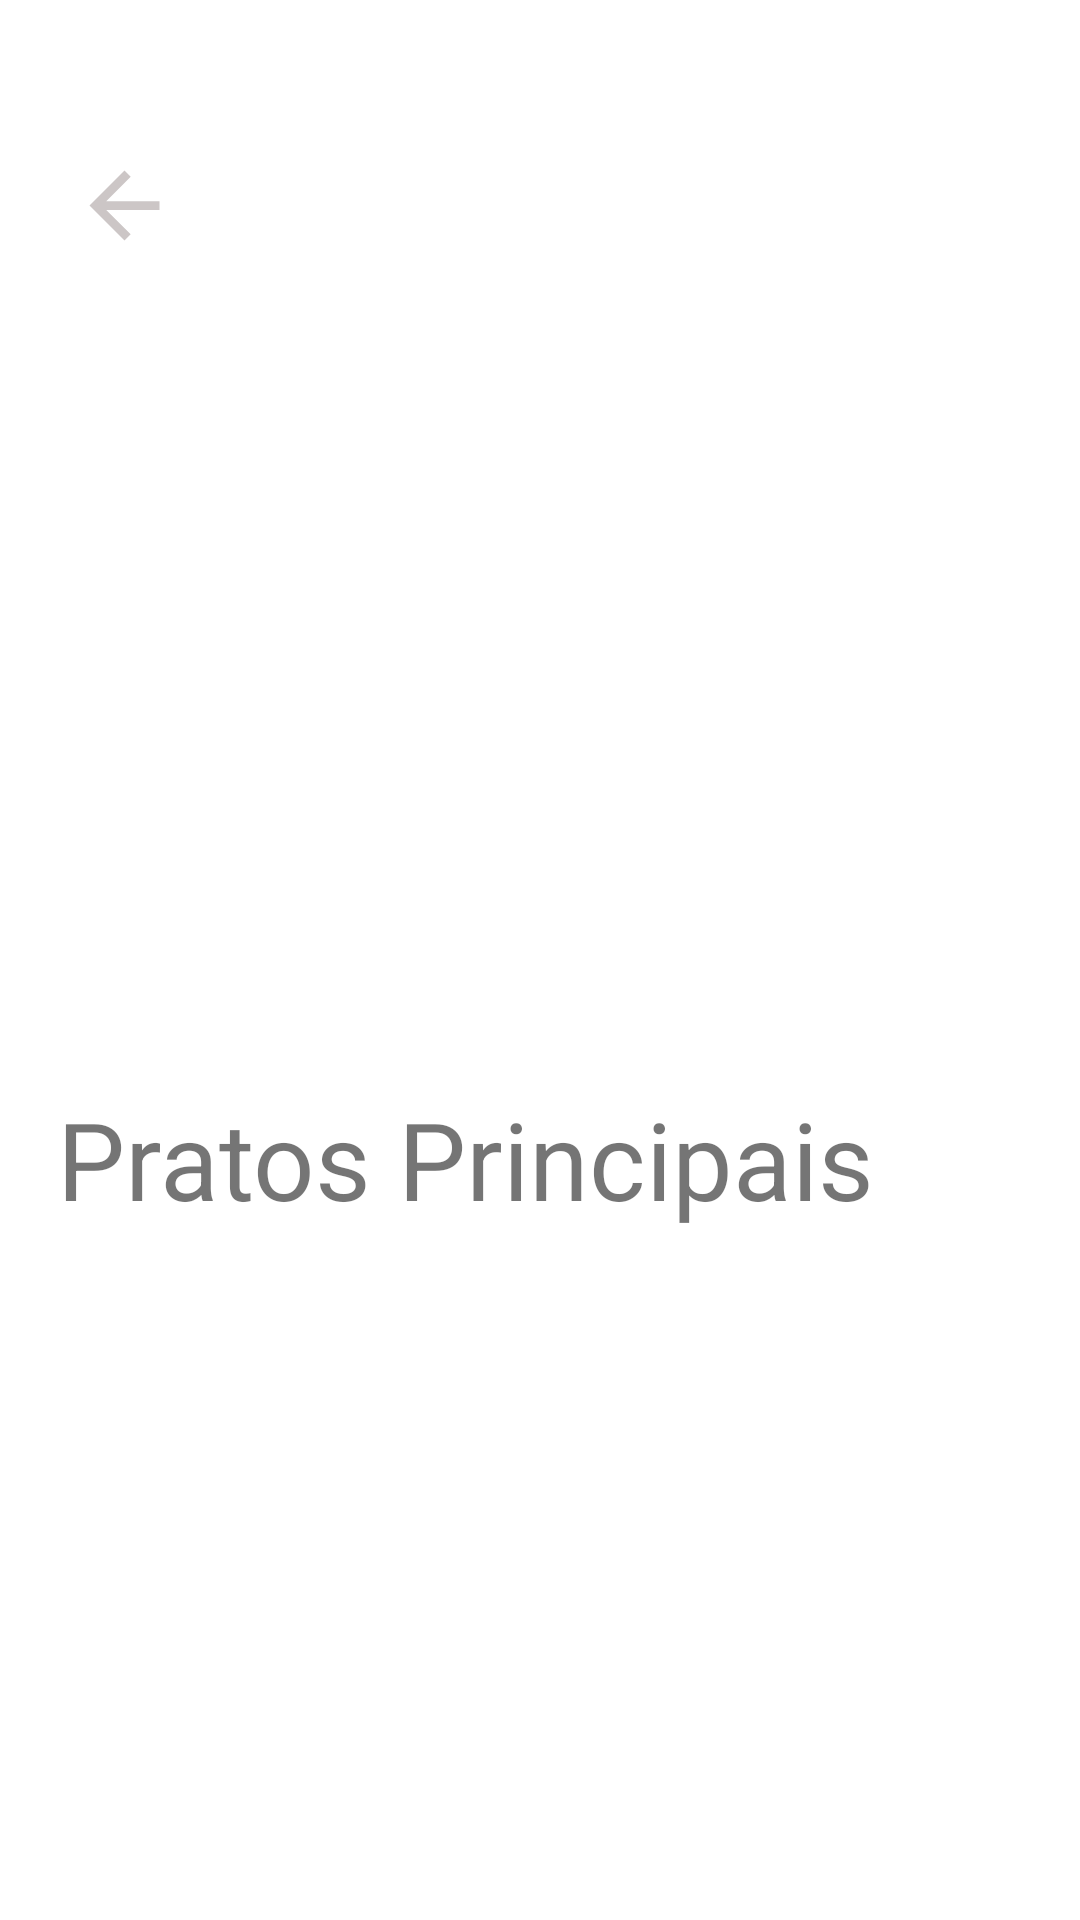

Where to tap for icons on this 1080x1920 app screen, as point (x, y):
arrow back: point (125, 205)
